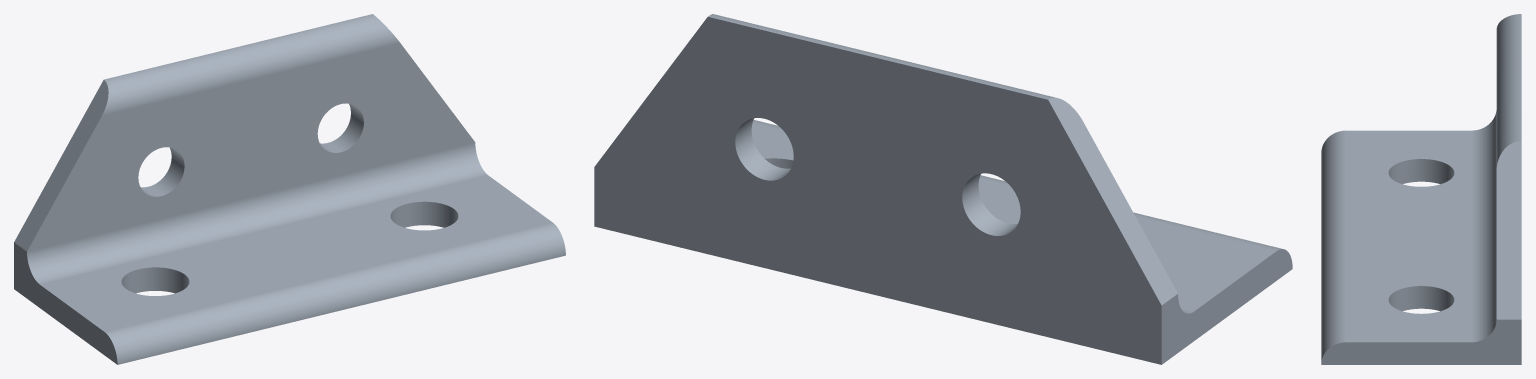
File: reference.glb
3 renders of one model, left to right at view 1: azimuth 30°, elevation 25°; view 2: azimuth 150°, elevation 25°; view 3: azimuth 270°, elevation 25°, orthographic. The views are drawn at different scales.
Visible parts, largest first — view 1: reference.tmp.stl; view 2: reference.tmp.stl; view 3: reference.tmp.stl.
Boxes of the visible parts, box(x1,y1,x2,y2) form: reference.tmp.stl: box(14, 14, 565, 364); reference.tmp.stl: box(594, 14, 1292, 364); reference.tmp.stl: box(1321, 14, 1521, 364).
Bounding box in the file's own units: 63.5 × 25.4 × 25.4.
